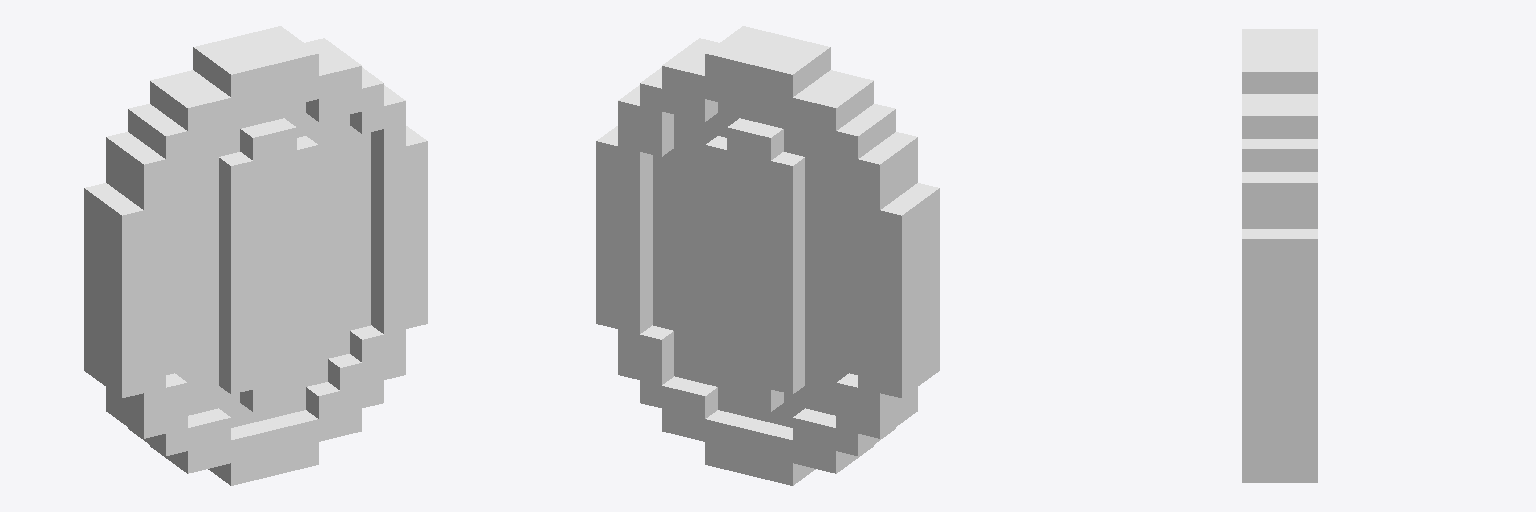
File: coin-v02.obj
3 renders of one model, left to right at view 1: azimuth 30°, elevation 25°; view 2: azimuth 150°, elevation 25°; view 3: azimuth 270°, elevation 25°, orthographic.
Visible parts, largest first — view 1: object 1; view 2: object 1; view 3: object 1.
Boxes of the visible parts, x1,y1,x2,y2 form: object 1: [84, 26, 427, 485]; object 1: [596, 26, 939, 485]; object 1: [1242, 29, 1317, 482].
Bounding box in the file's own units: 1.4 × 1.8 × 0.3.